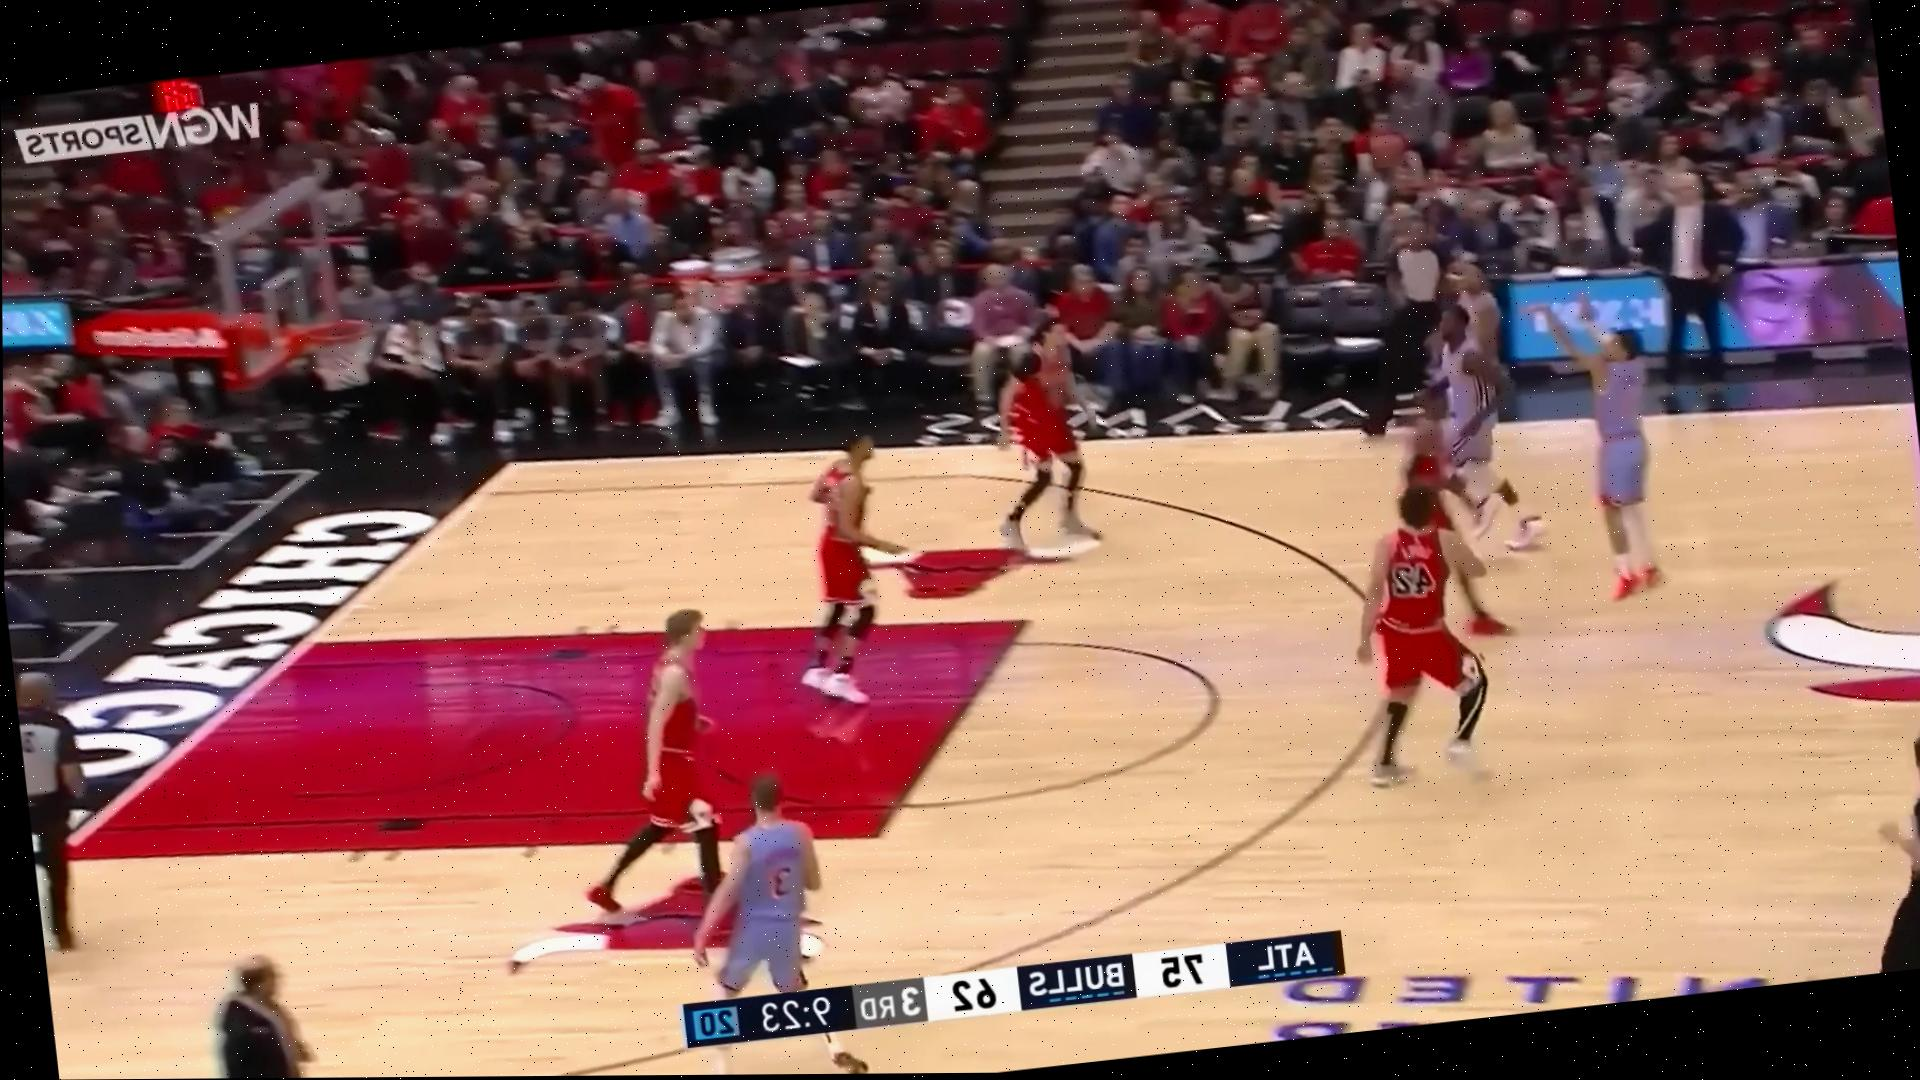no_foul: (1445, 277, 1720, 626)
